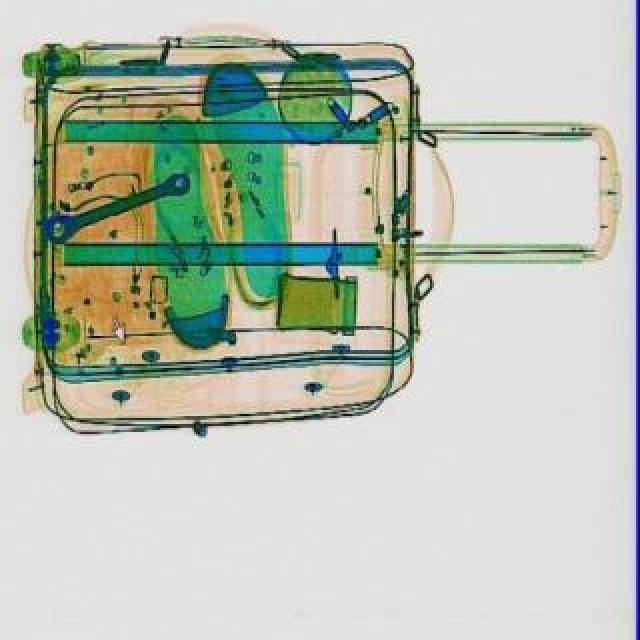scissors: (42, 168, 198, 252)
